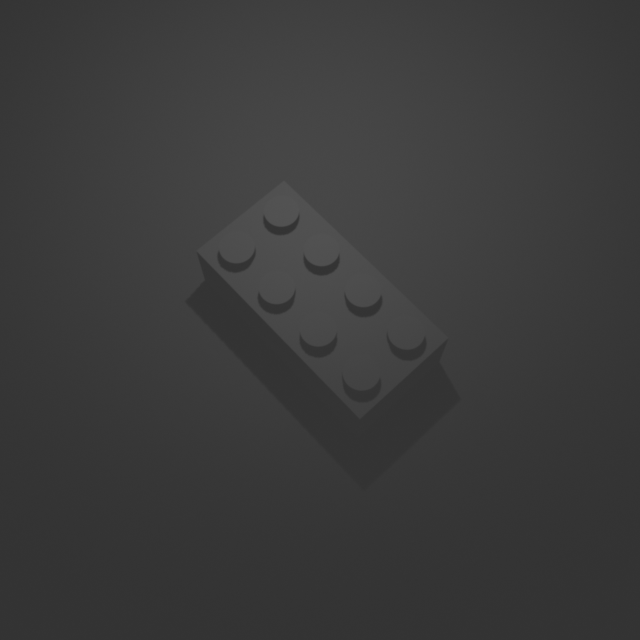lego_2x4: (195, 175, 450, 438)
